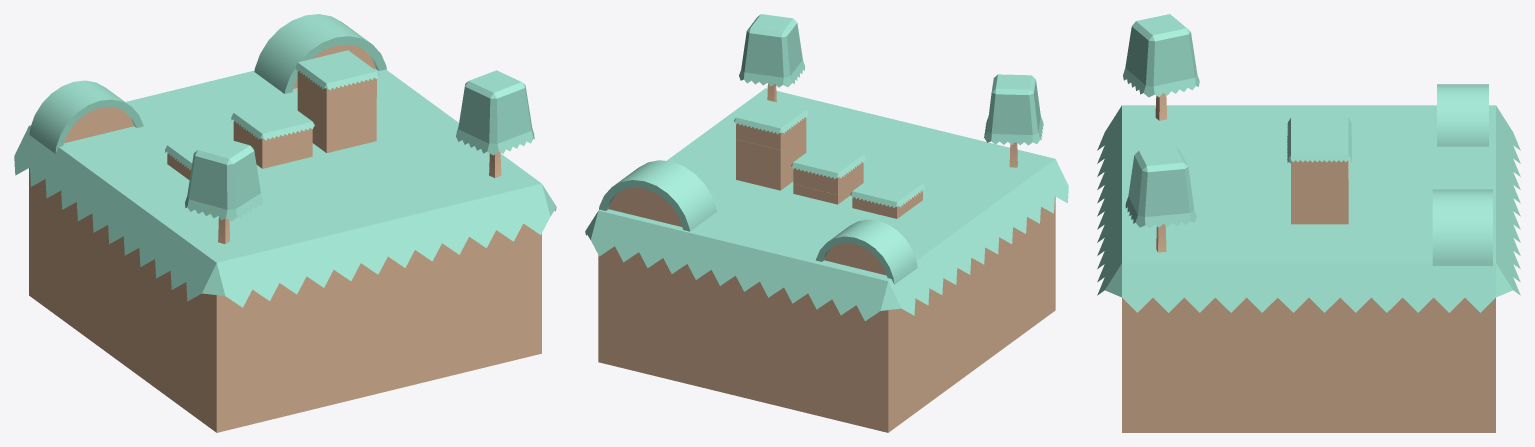
Rendered from FloatingIsland3.fbx.
3 views of the same model, side by side, from view 1: azimuth 30°, elevation 25°; view 2: azimuth 150°, elevation 25°; view 3: azimuth 270°, elevation 25° (orthographic). The views are drawn at different scales.
Visible parts, largest first — view 1: Island3; view 2: Island3; view 3: Island3.
Boxes of the visible parts, x1,y1,x2,y2 form: Island3: (14, 14, 556, 432); Island3: (585, 14, 1068, 432); Island3: (1097, 14, 1520, 432).
Bounding box in the file's own units: 735 × 504 × 735.
